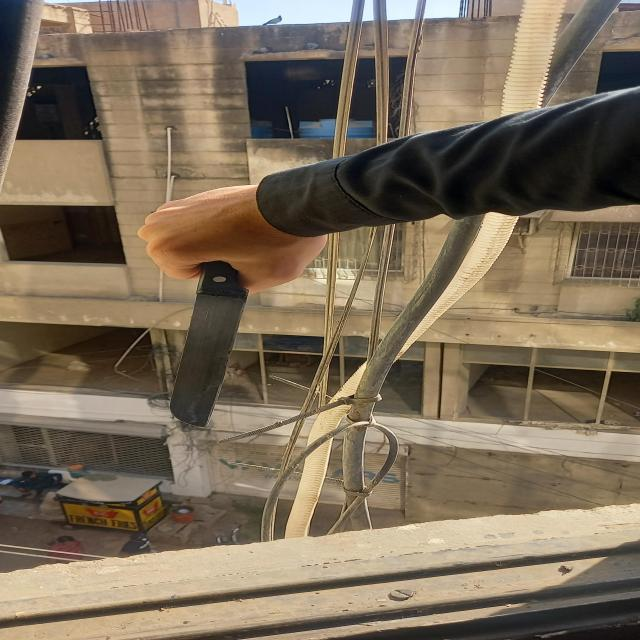faca: (168, 260, 248, 428)
